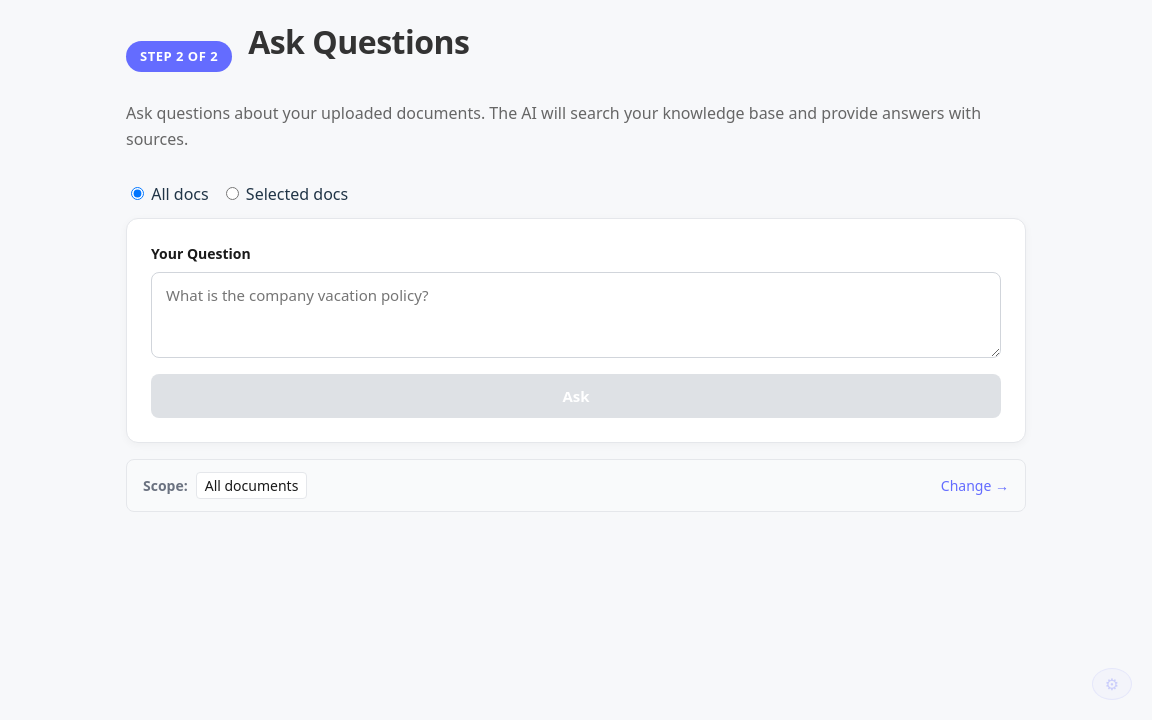
Query SSE behavior › dev invariant shows when final missing evidence/sources
Type "Check invariant" into the text box with placeholder "What is the company vacation policy?" at (576, 315), box top-left (151, 272), bottom-right (1001, 358)
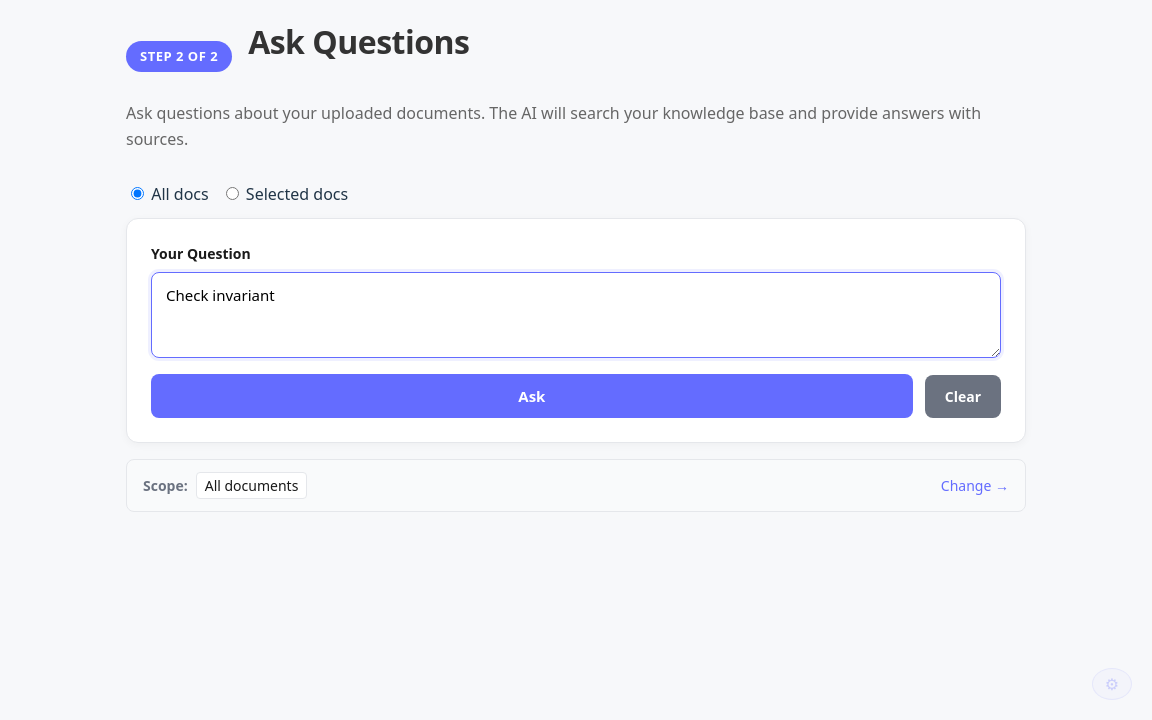
Click the button "Ask" at (532, 396), box top-left (151, 374), bottom-right (913, 418)
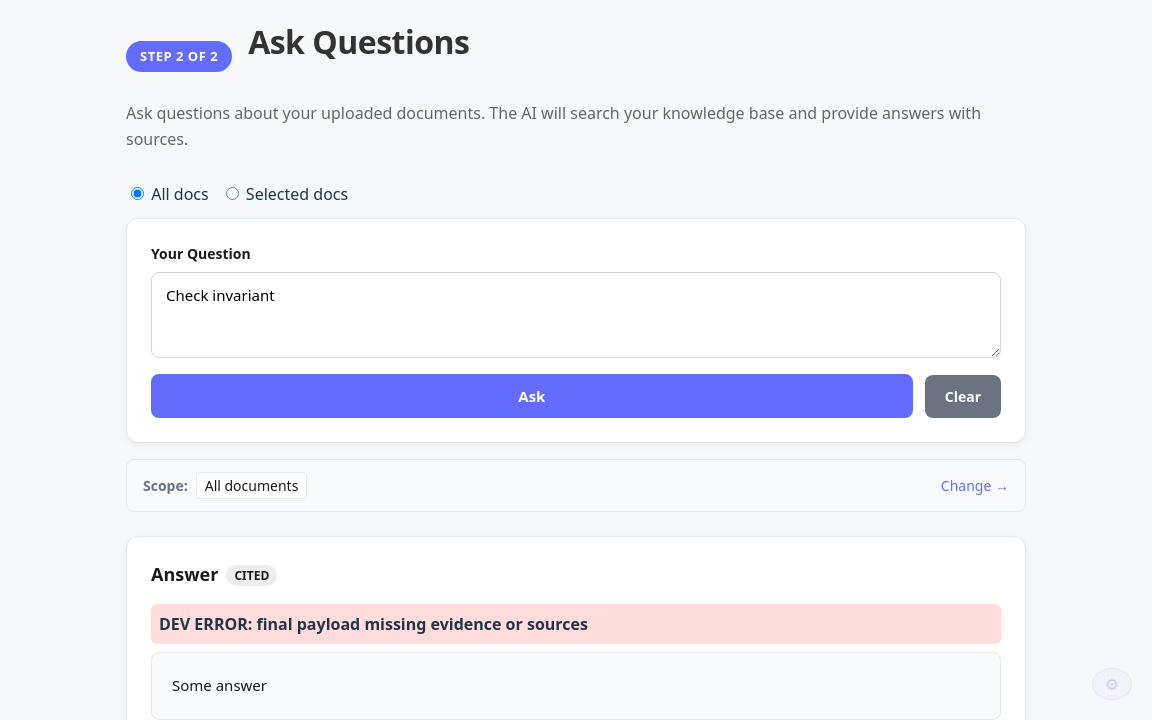
Now the text "DEV ERROR: final payload missing evidence or sources" is shown, box top-left (159, 613), bottom-right (588, 635)
